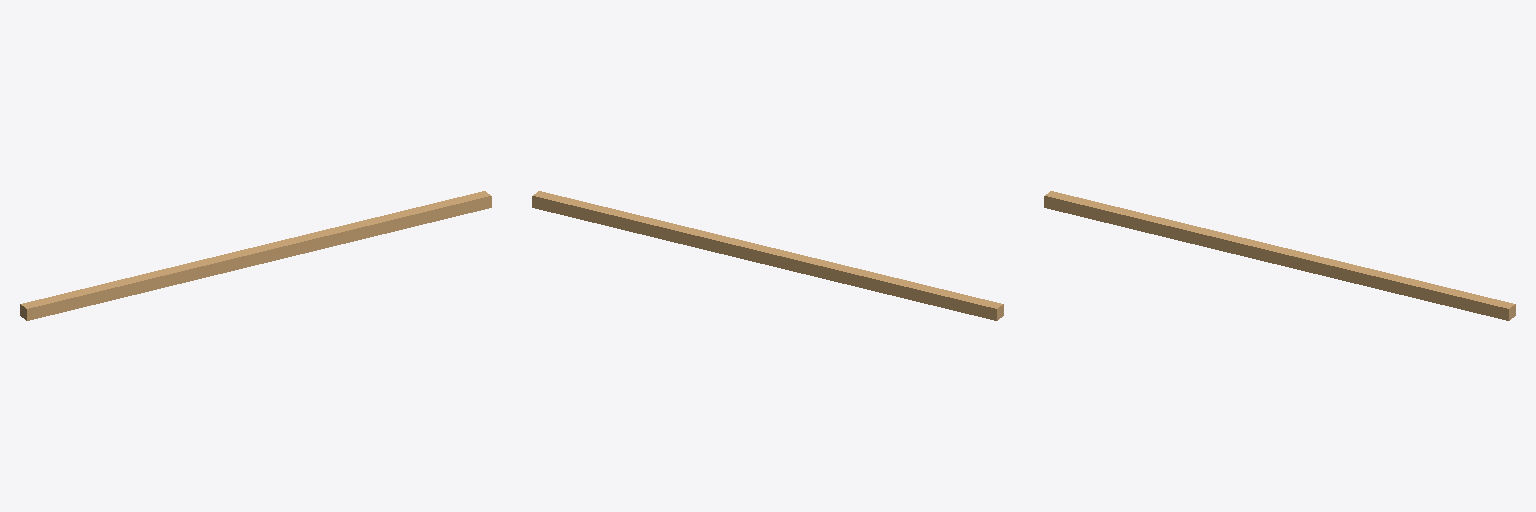
robot.urdf — simple_box:
<robot name="simple_box">
    
  <material name="wood">
    <color rgba="0.87  0.72 0.52 1"/>
  </material>

  <link name="nil_link">
    <inertial>
      <origin xyz="0 0 0" /> 
      <mass value="10" />
      <inertia ixx="1" ixy="0" ixz="0" iyy="1" iyz="0" izz="1"/>
    </inertial>
    <visual>
      <origin xyz="0 0 0"/>
      <geometry>
        <box size="2.0 0.05 0.05" />
      </geometry>
      <material name="wood"/>
    </visual>
    <collision>
      <origin xyz="0 0 0"/>
      <geometry>
        <box size="0.6 1.5 0.05" />
      </geometry>
    </collision>
  </link>
  <gazebo reference="nil_link">
    <material>Gazebo/Wood</material>
  </gazebo>
  <gazebo reference="nil_link">
    <mu1>2.0</mu1>
    <mu2>2.0</mu2>
  </gazebo>
</robot>

--- What the picture shows (computed from the rendered views, not written in the file) ---
3 views of the same robot in one strip: view 1: azimuth 30°, elevation 25°; view 2: azimuth 150°, elevation 25°; view 3: azimuth 330°, elevation 25° (orthographic).
Robot: simple_box — 1 links, 0 joints (none); root link nil_link; default pose: all joints at 0.
Visible links, largest first — view 1: nil_link; view 2: nil_link; view 3: nil_link.
Link boxes in pixels (left/top/right/bottom): nil_link: left=20, top=191, right=491, bottom=320; nil_link: left=532, top=191, right=1003, bottom=320; nil_link: left=1044, top=191, right=1515, bottom=320.
Size in the robot's own frame: 2 by 0.05 by 0.05 metres.
Geometry: primitives only (box / cylinder / sphere), no mesh files.
